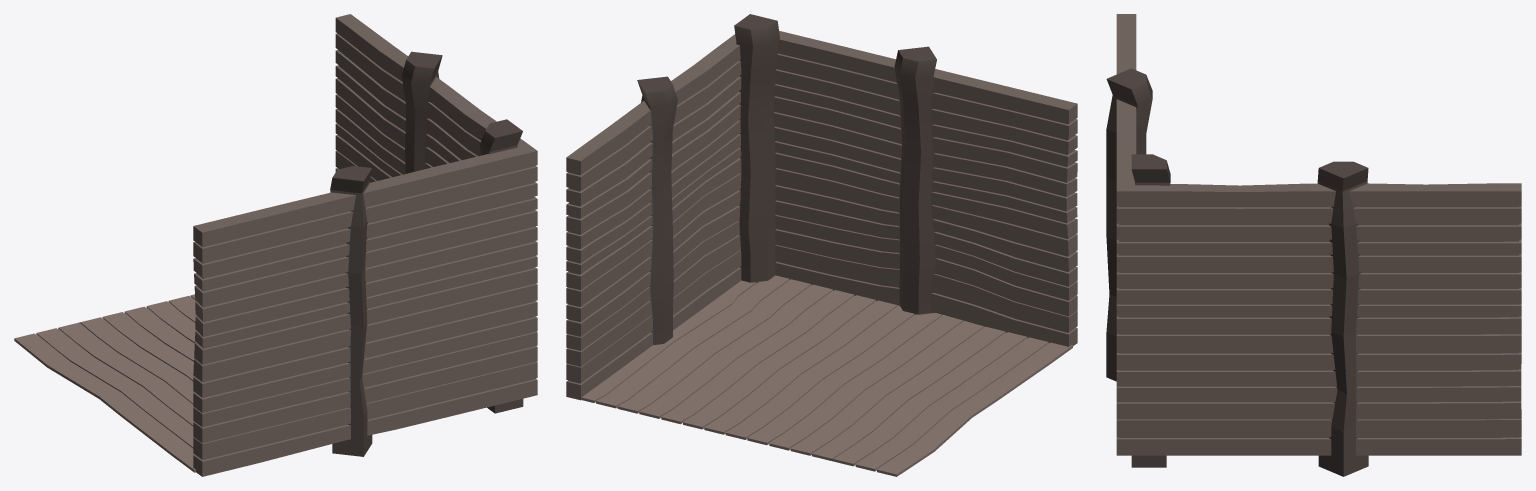
File: room.fbx
3 renders of one model, left to right at view 1: azimuth 30°, elevation 25°; view 2: azimuth 150°, elevation 25°; view 3: azimuth 270°, elevation 25°, orthographic. The views are drawn at different scales.
Parts seen in each view (by area): view 1: pCube8; view 2: pCube8; view 3: pCube8.
Boxes of the visible parts, x1,y1,x2,y2 form: pCube8: (14, 14, 537, 476); pCube8: (566, 14, 1077, 476); pCube8: (1106, 14, 1521, 476).
Size of the model in its own units: 12.4 by 9.34 by 11.78.
